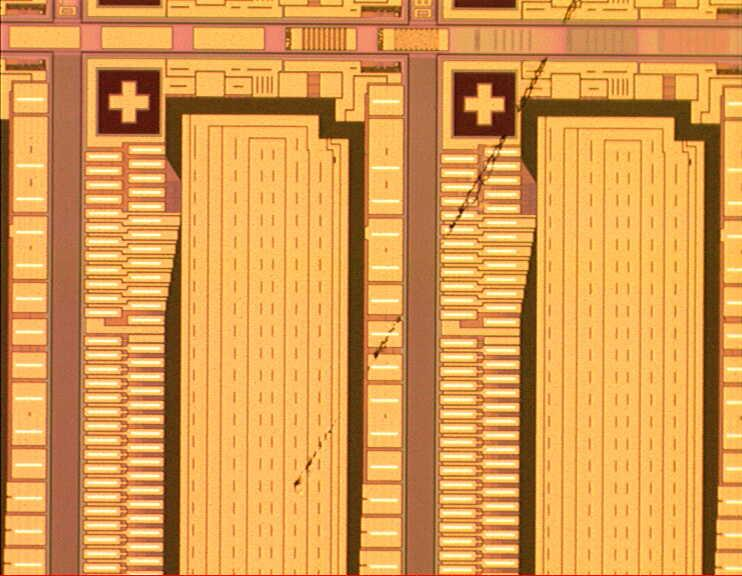SCRATCH: (276, 1, 585, 498)
